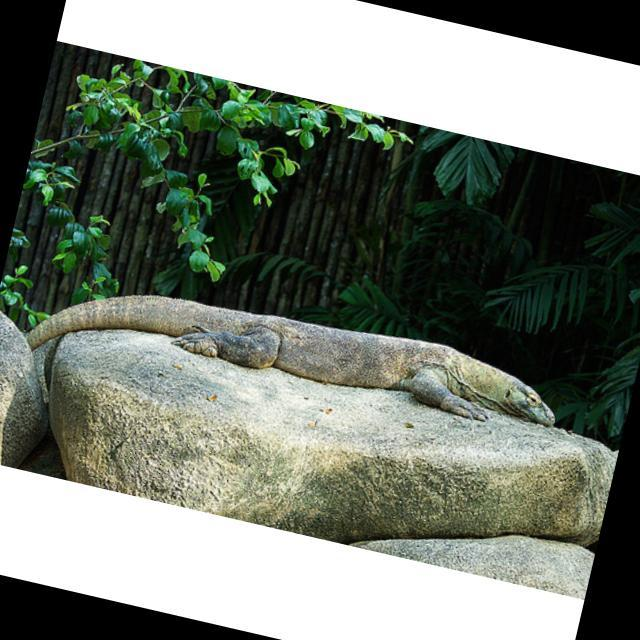KomodoDragon: (25, 251, 568, 466)
